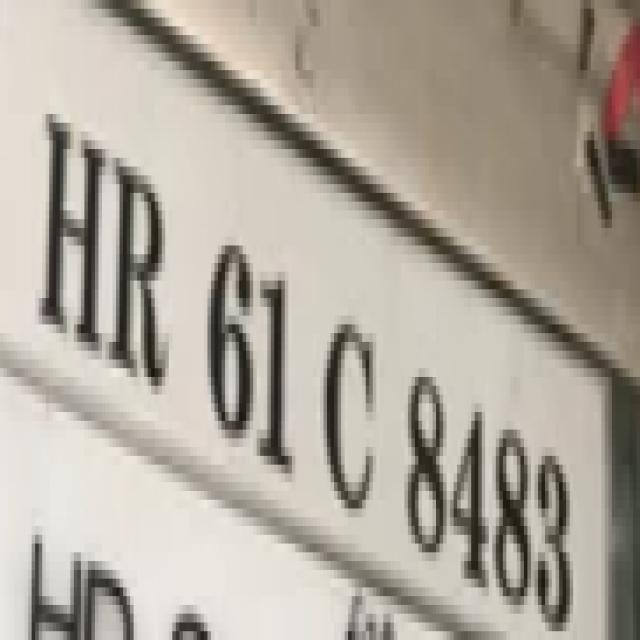1: (254, 241, 298, 480)
3: (534, 431, 575, 634)
4: (447, 383, 495, 597)
6: (201, 201, 259, 454)
8: (403, 348, 452, 569), (496, 404, 533, 619)
C: (319, 287, 382, 522)
H: (36, 96, 110, 361)
R: (104, 142, 177, 400)
